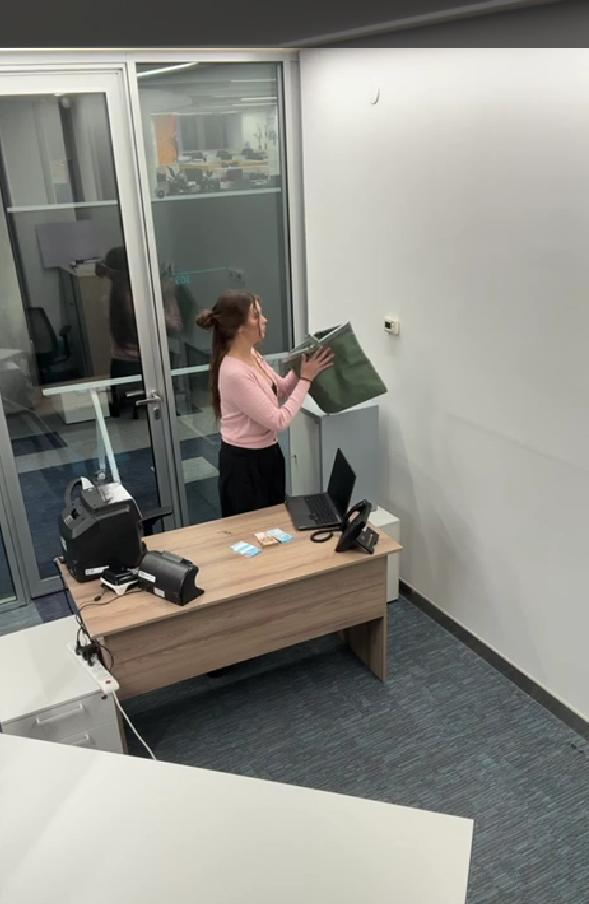cash-in-transit bag: (282, 318, 395, 418)
cash_stack: (262, 512, 315, 553), (206, 534, 266, 568), (244, 524, 289, 561)
counter: (56, 470, 153, 588)
key_in: (275, 434, 315, 477)
uv_lamp: (126, 548, 215, 609)
